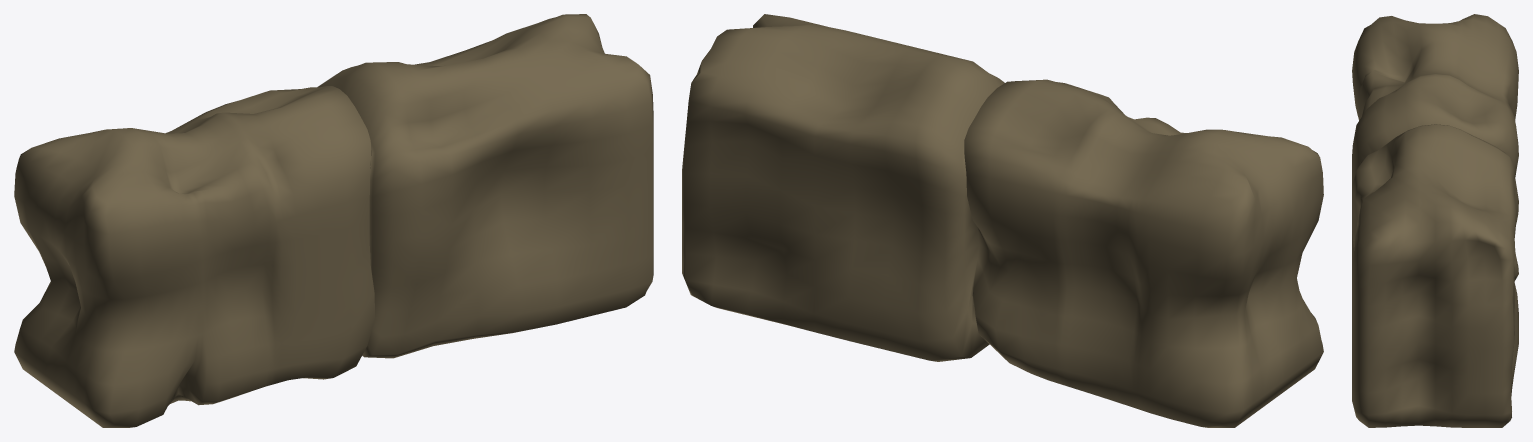
File: Pared_Limite.fbx
3 views of the same model, side by side, from view 1: azimuth 30°, elevation 25°; view 2: azimuth 150°, elevation 25°; view 3: azimuth 270°, elevation 25° (orthographic). The views are drawn at different scales.
Parts seen in each view (by area): view 1: Pared_Coral; view 2: Pared_Coral; view 3: Pared_Coral.
Boxes of the visible parts, x1,y1,x2,y2 form: Pared_Coral: (14,14,653,427); Pared_Coral: (682,14,1323,427); Pared_Coral: (1352,14,1518,427).
Size of the model in its own units: 9.34 by 4.15 by 2.89.
